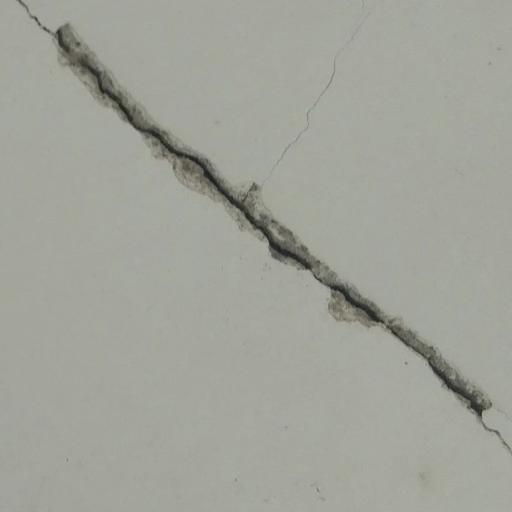major_crack: (24, 1, 512, 436)
